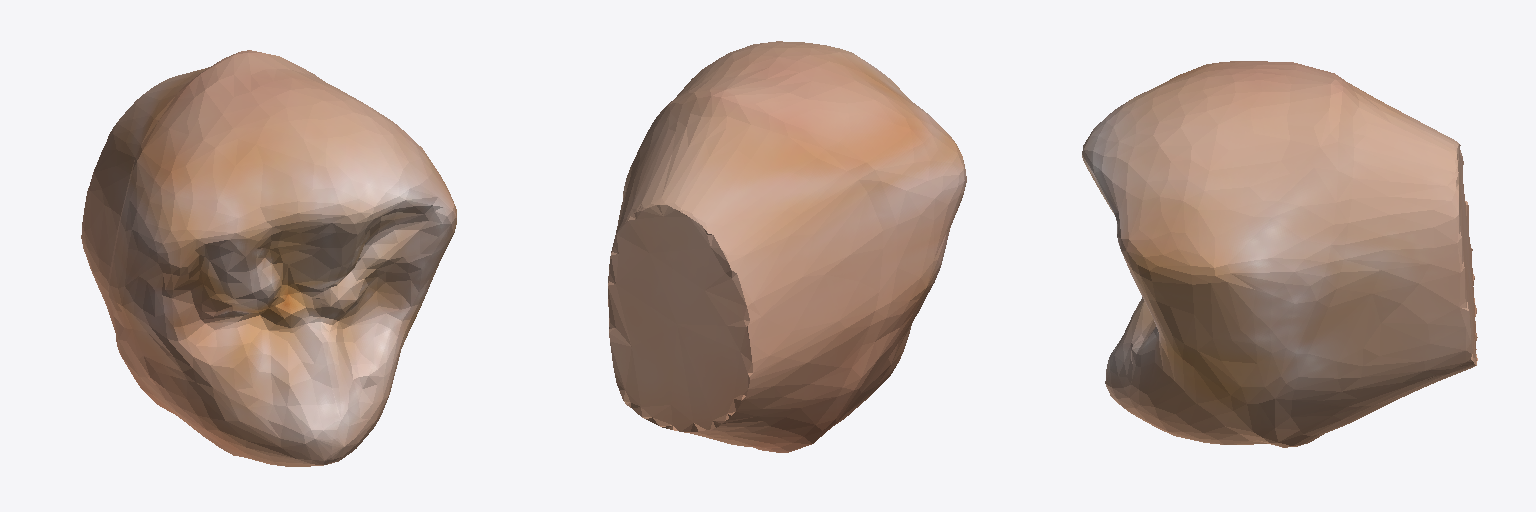
3 renders of one model, left to right at view 1: azimuth 30°, elevation 25°; view 2: azimuth 150°, elevation 25°; view 3: azimuth 270°, elevation 25°, orthographic.
Size of the model in its own units: 7.67 by 8.86 by 8.82.
Materials: 1 (1 with a texture image).